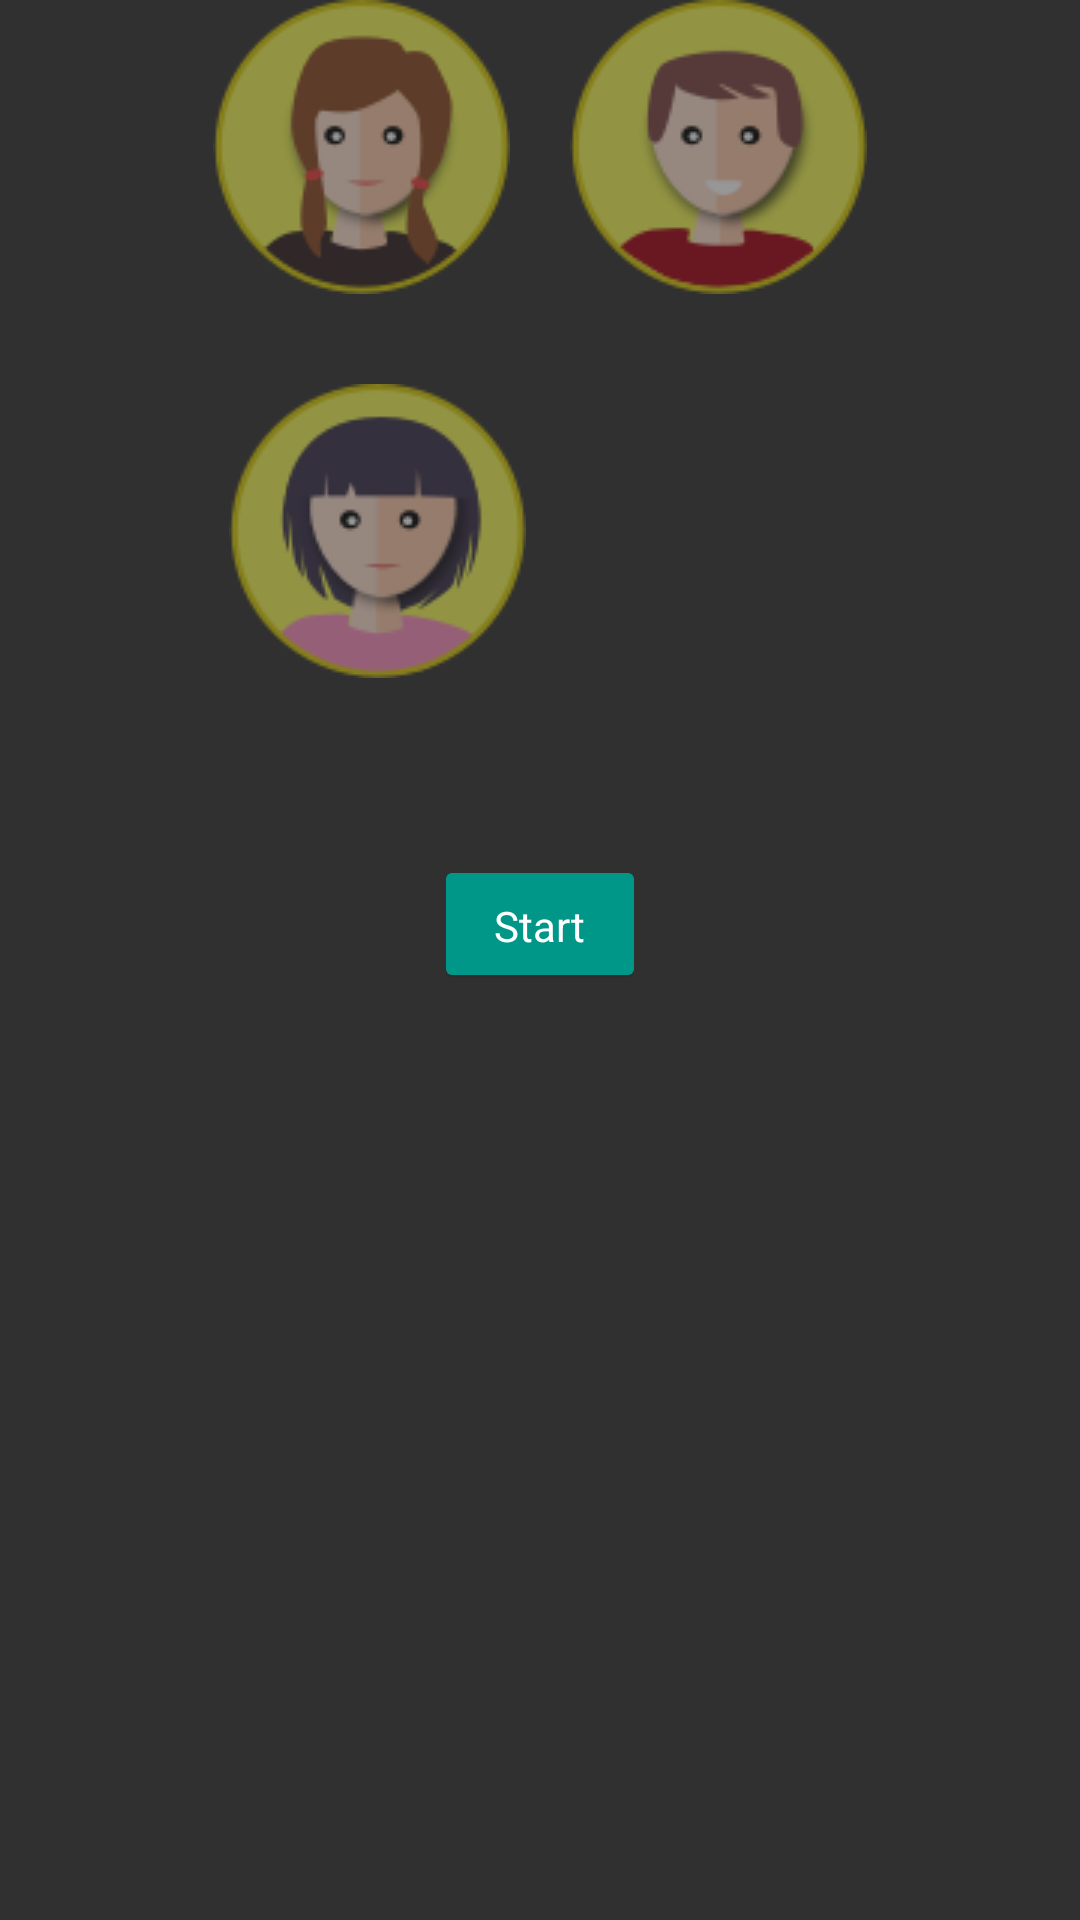

Where icons sit on this 1080*1920 app screen, as (x1, y1, x2, y2):
female: (215, 0, 510, 294), (231, 384, 526, 678)
male: (572, 0, 867, 294)
